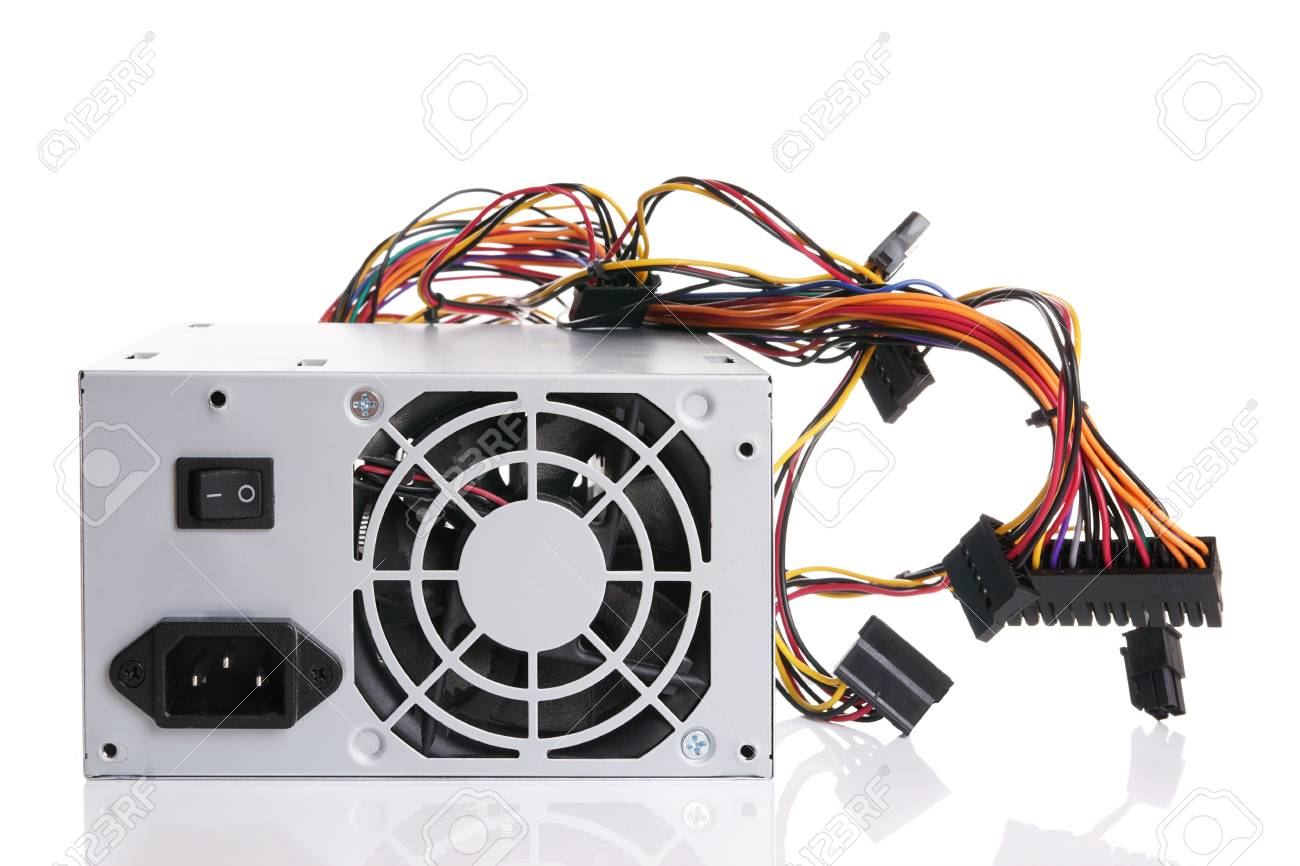Power Supply: (64, 169, 1260, 827)
